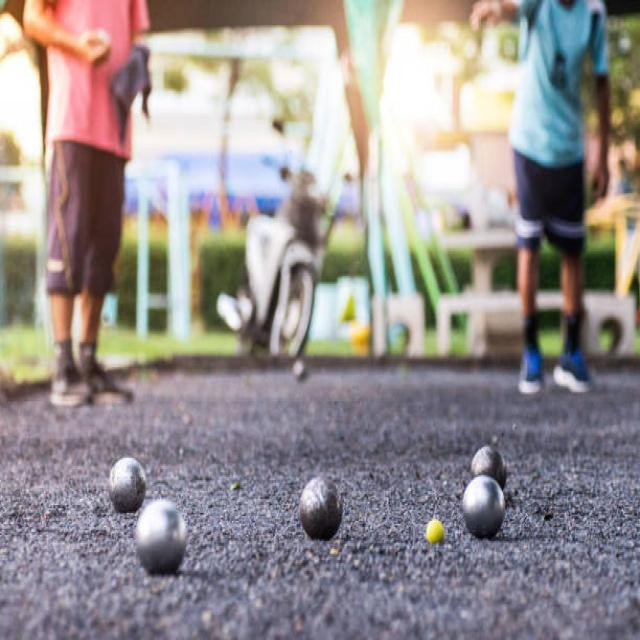hatball: (421, 514, 447, 551)
petanque: (129, 494, 195, 581), (297, 471, 348, 545), (455, 474, 509, 542), (103, 452, 154, 519), (463, 442, 513, 487)
